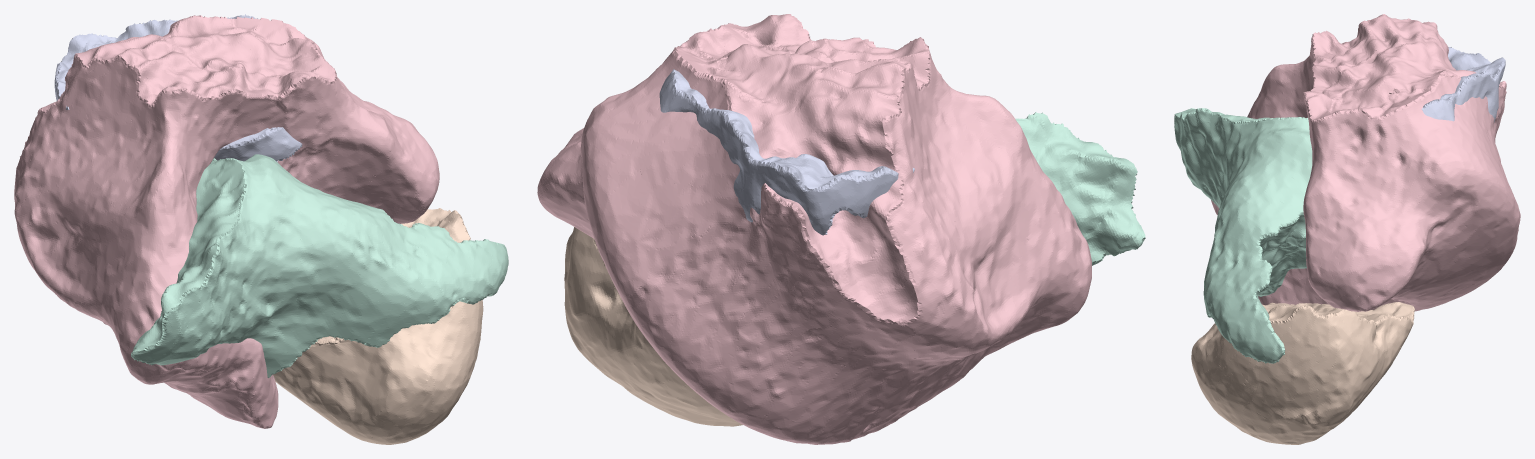
Rendered from AMNH_216242_Galago-crassicaudatus_Left-Ast_Smooth_colored.glb.
3 views of the same model, side by side, from view 1: azimuth 30°, elevation 25°; view 2: azimuth 150°, elevation 25°; view 3: azimuth 270°, elevation 25° (orthographic). The views are drawn at different scales.
Visible parts, largest first — view 1: world; view 2: world; view 3: world.
Part boxes in pixels (x1=…): world: x1=14, y1=14, x2=508, y2=444; world: x1=537, y1=14, x2=1145, y2=444; world: x1=1174, y1=14, x2=1520, y2=444.
Size of the model in its own units: 1.09 by 0.9583 by 0.8934.
